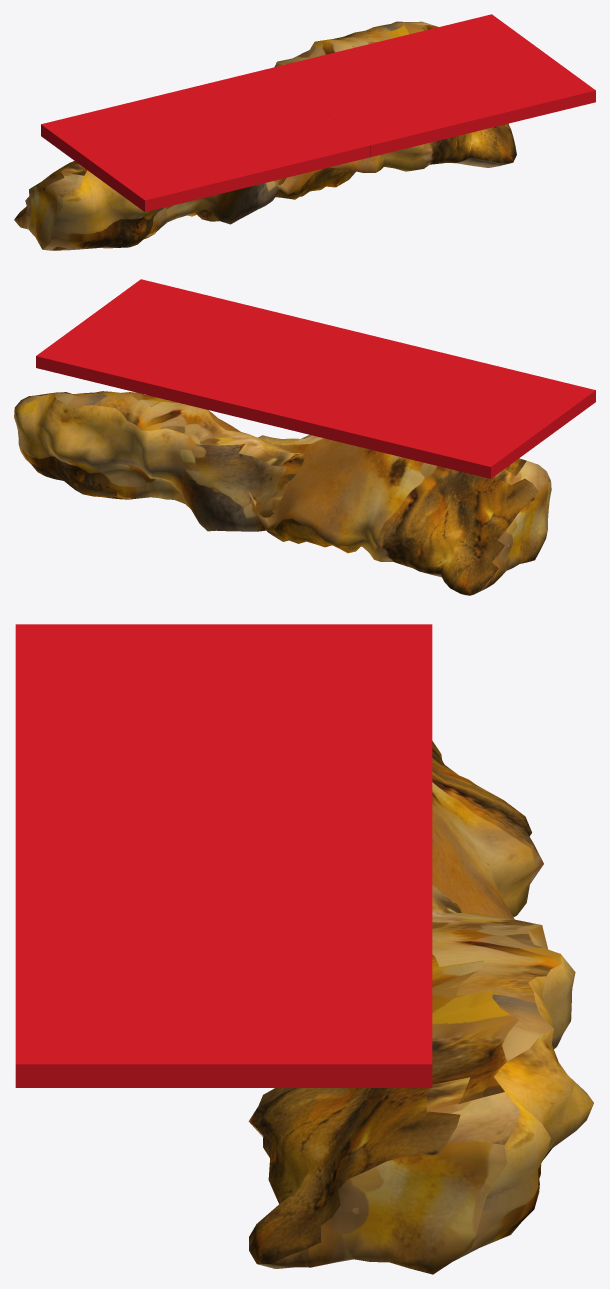
The model's file is Rocha_duplex.fbx.
The picture shows the model from 3 angles, top to bottom: view 1: azimuth 30°, elevation 25°; view 2: azimuth 150°, elevation 25°; view 3: azimuth 270°, elevation 25°; orthographic projection. The views are drawn at different scales.
Visible parts, largest first — view 1: Cube.068, Cube.067, kamien_low.008, kamien_low.007; view 2: kamien_low.008, Cube.068, Cube.067, kamien_low.007; view 3: Cube.067, Cube.068, kamien_low.007, kamien_low.008.
Boxes of the visible parts, x1,y1,x2,y2 form: Cube.068: (41,69,370,212); Cube.067: (266,14,595,157); kamien_low.008: (14,161,285,250); kamien_low.007: (274,21,516,199); kamien_low.008: (247,434,551,595); Cube.068: (263,334,595,478); Cube.067: (36,279,367,423); kamien_low.007: (14,391,305,531); Cube.067: (15,844,432,1087); Cube.068: (15,624,432,844); kamien_low.007: (248,885,593,1274); kamien_low.008: (432,741,543,919).
Bounding box in the file's own units: 1197 × 297 × 625.
Materials: 2 (1 with a texture image).
